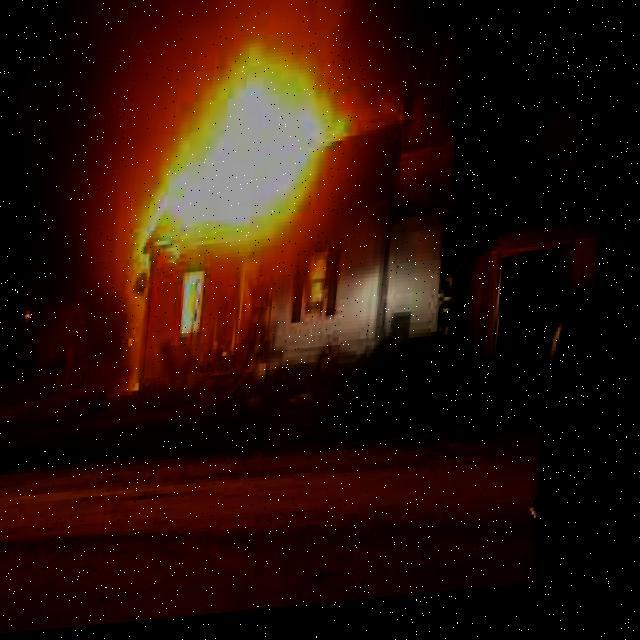Fire: (138, 43, 384, 281)
